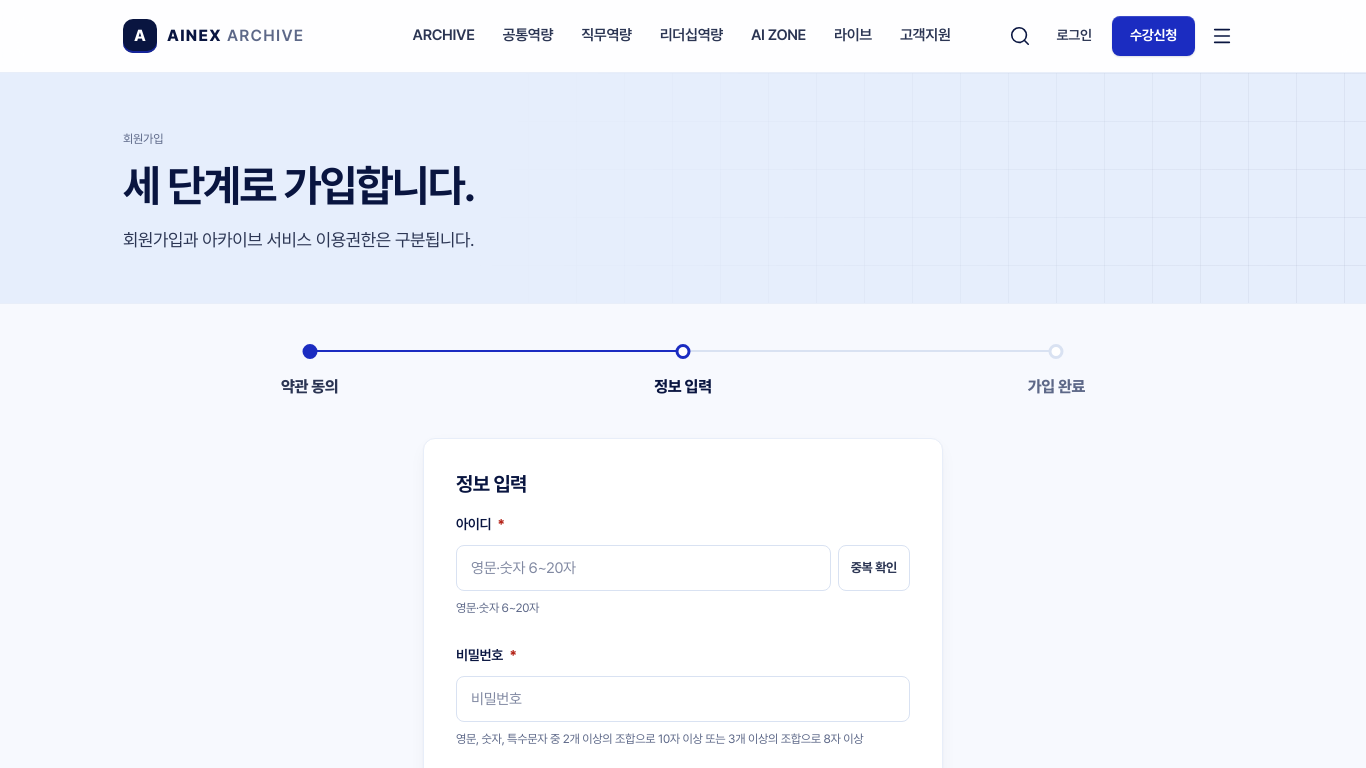
Test: member pages › signup info: sends the join_ok.php fields and shows the existing-site link on IDENTITY_REQUIRED
Type "hong01" into the field labelled "아이디 *". click: {"x": 643, "y": 568}
box: [456, 545, 831, 591]
Click the button "중복 확인". click: {"x": 874, "y": 568}
box: [838, 545, 910, 591]
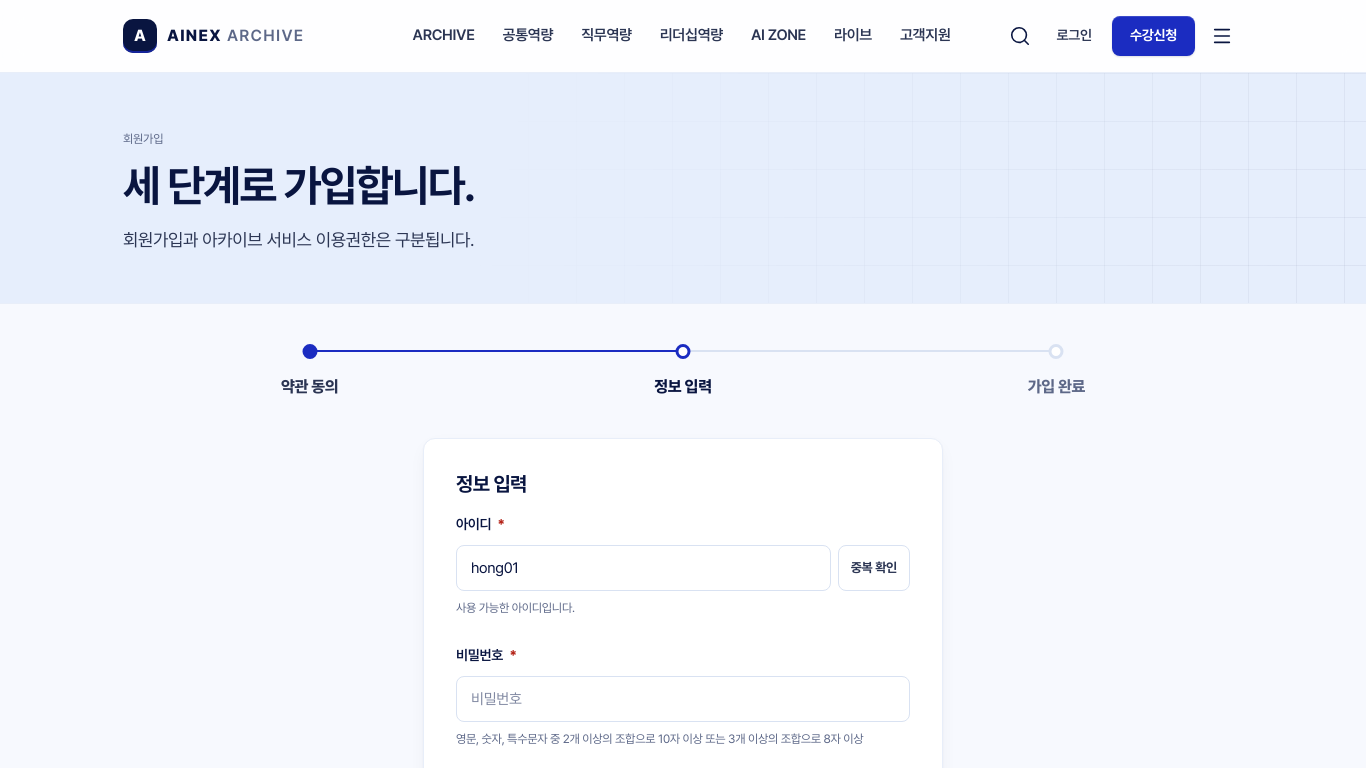
Expected: the text "사용 가능한 아이디입니다." is shown, [456, 601, 575, 615]
Type "Passw0rd!x" into the password field labelled "비밀번호 *". click: {"x": 683, "y": 699}
box: [456, 676, 910, 722]
(page scrolled)
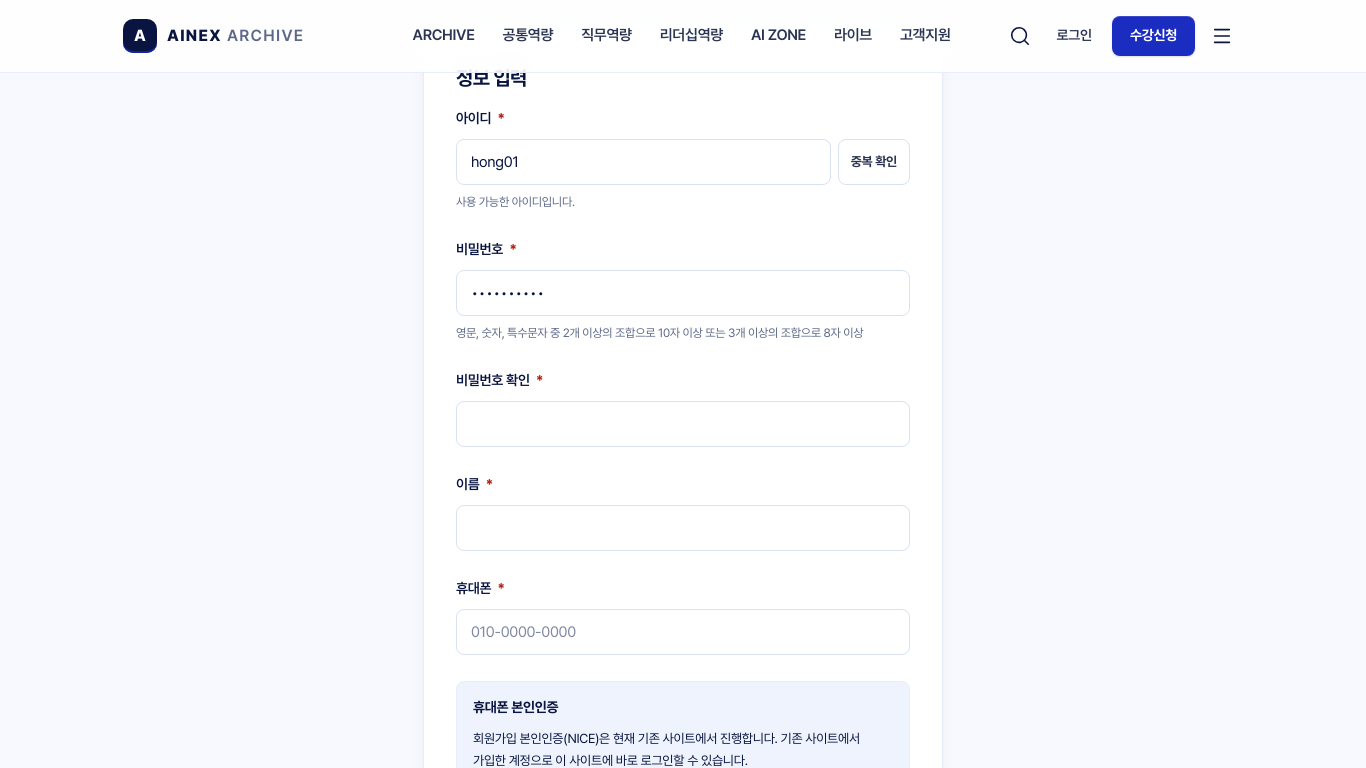
Type "Passw0rd!x" into the password field labelled "비밀번호 확인 *". click: {"x": 683, "y": 424}
box: [456, 401, 910, 447]
Type "홍길동" into the field labelled "이름 *". click: {"x": 683, "y": 528}
box: [456, 505, 910, 551]
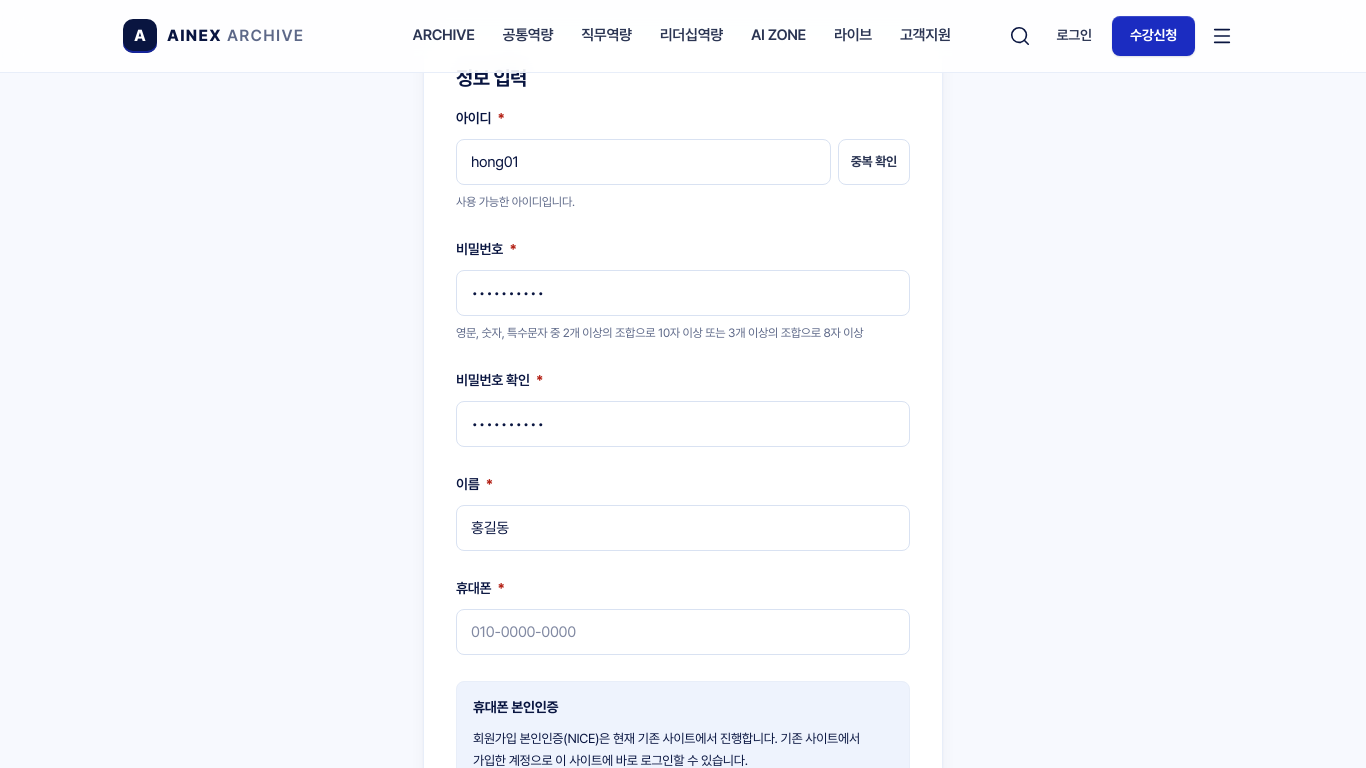
Type "01012345678" into the field labelled "휴대폰 *". click: {"x": 683, "y": 632}
box: [456, 609, 910, 655]
(page scrolled)
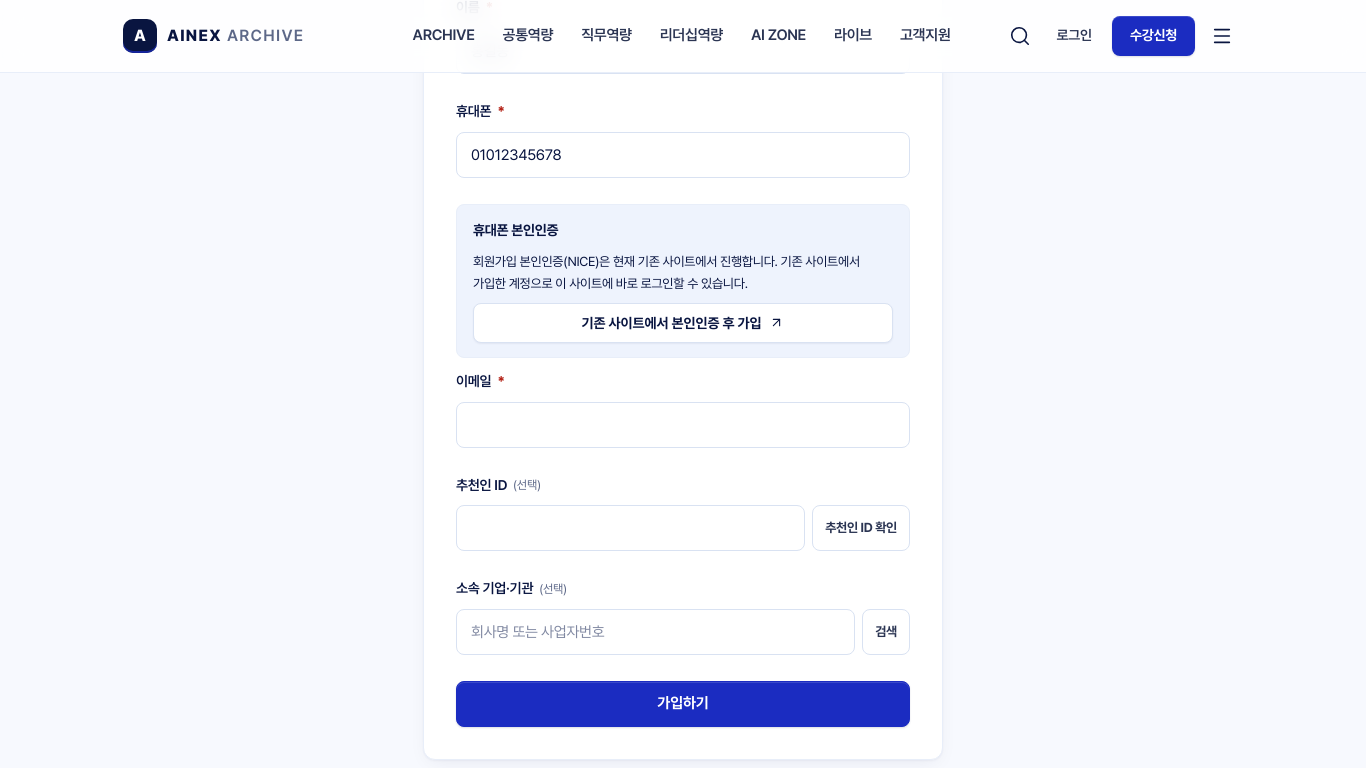
Type "hong@hrdeedu.co.kr" into the field labelled "이메일 *". click: {"x": 683, "y": 425}
box: [456, 402, 910, 448]
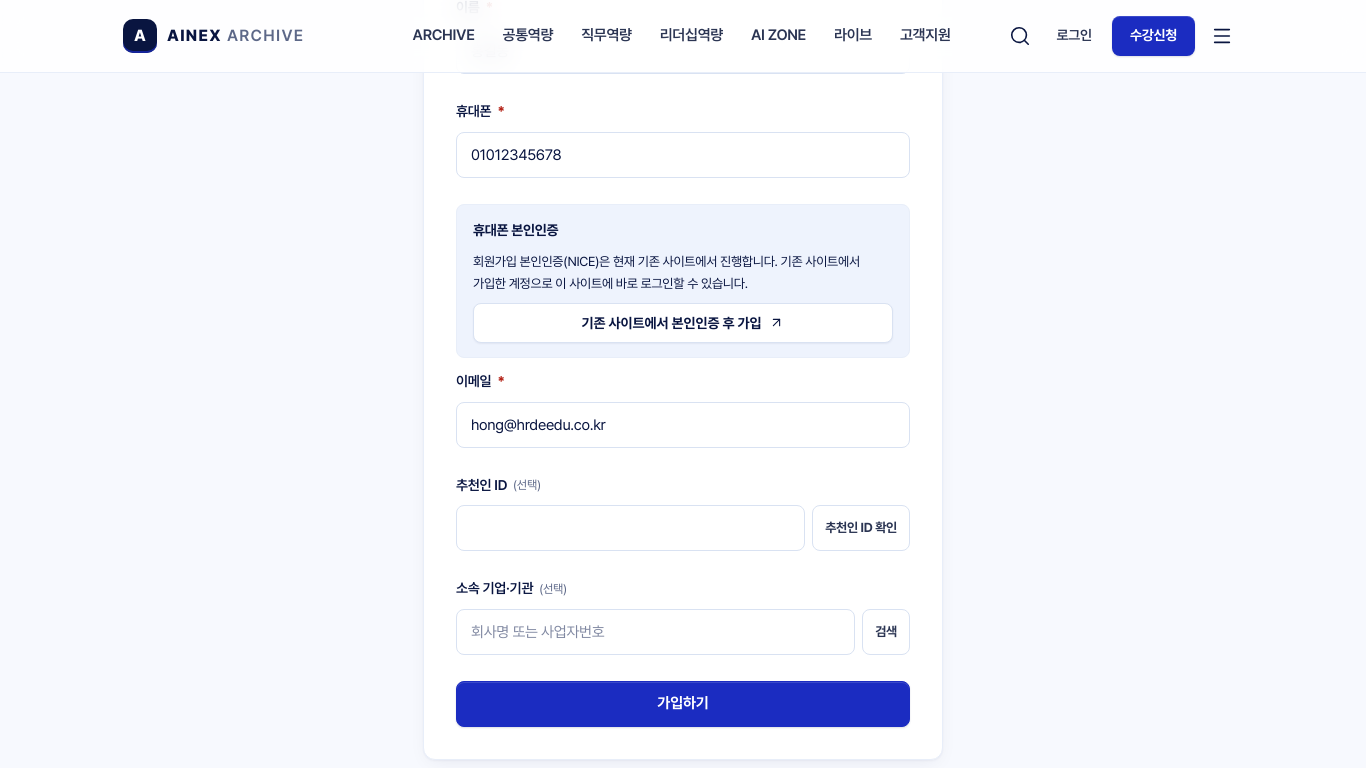
Click the button "가입하기". click: {"x": 683, "y": 704}
box: [456, 681, 910, 727]
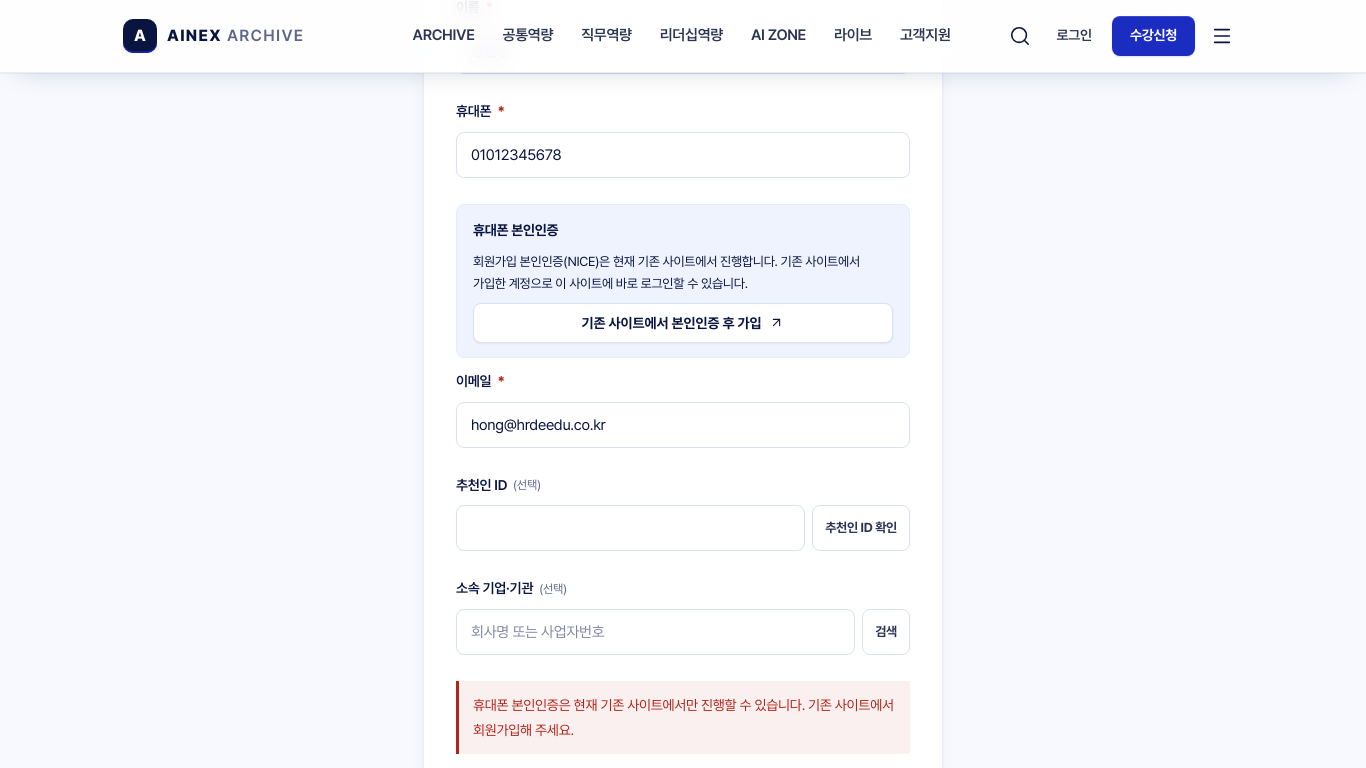
Expected: the text "휴대폰 본인인증은 현재 기존 사이트에서만 진행할 수 있습니다. 기존 사이트에서 회원가입해 주세요." is shown, [456, 681, 910, 754]
